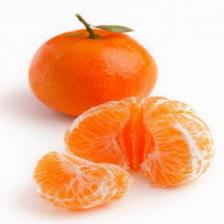orange: (28, 29, 158, 117), (141, 97, 215, 187), (34, 152, 134, 209), (65, 101, 130, 169), (117, 97, 148, 171)
